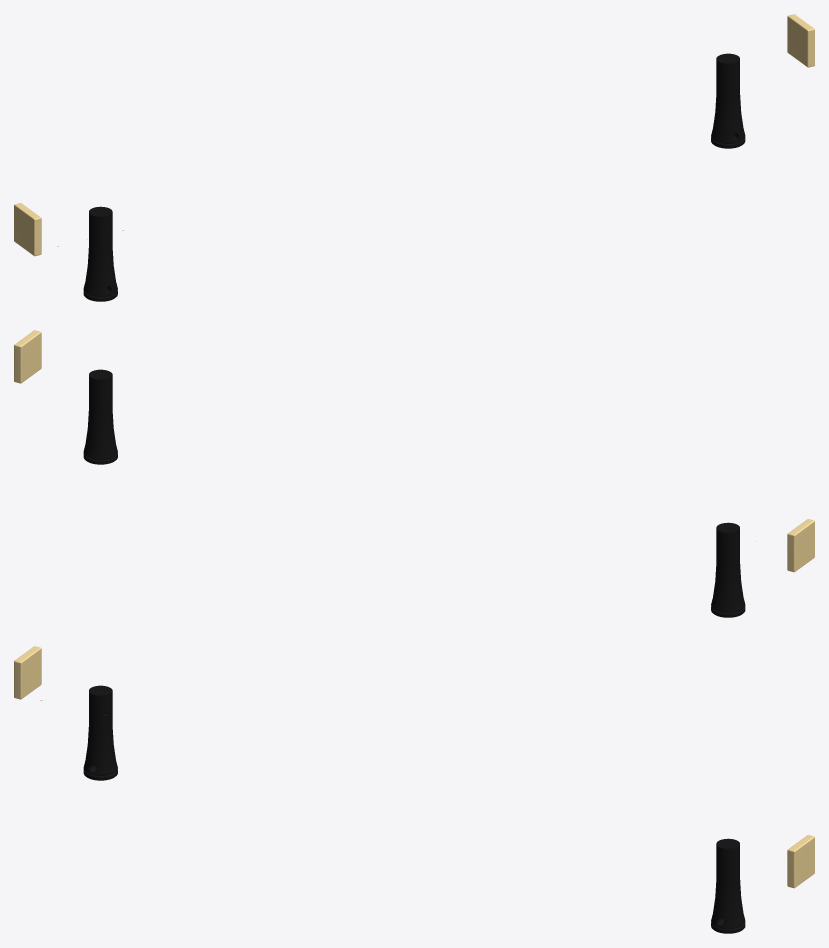
File: door-handles-1715.glb
3 views of the same model, one above another, from view 1: azimuth 30°, elevation 25°; view 2: azimuth 150°, elevation 25°; view 3: azimuth 330°, elevation 25° (orthographic).
Visible parts, largest first — view 1: Post 1, Post -1, Plate 1, Plate -1; view 2: Post 1, Post -1, Plate 1, Plate -1; view 3: Post -1, Post 1, Plate -1, Plate 1.
Part boxes in pixels (left/top/right/bottom): Post 1: left=711, top=53, right=745, bottom=148; Post -1: left=83, top=206, right=117, bottom=301; Plate 1: left=787, top=14, right=814, bottom=67; Plate -1: left=14, top=203, right=41, bottom=256; Post 1: left=83, top=369, right=117, bottom=464; Post -1: left=711, top=522, right=745, bottom=617; Plate 1: left=14, top=330, right=41, bottom=383; Plate -1: left=787, top=519, right=814, bottom=572; Post -1: left=83, top=685, right=117, bottom=780; Post 1: left=711, top=838, right=745, bottom=933; Plate -1: left=14, top=646, right=41, bottom=699; Plate 1: left=787, top=835, right=814, bottom=888.
Bounding box in the file's own units: 0.305 × 0.038 × 0.014.
